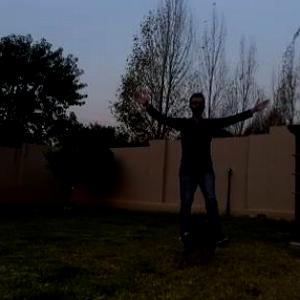takeoff: (142, 75, 299, 261)
